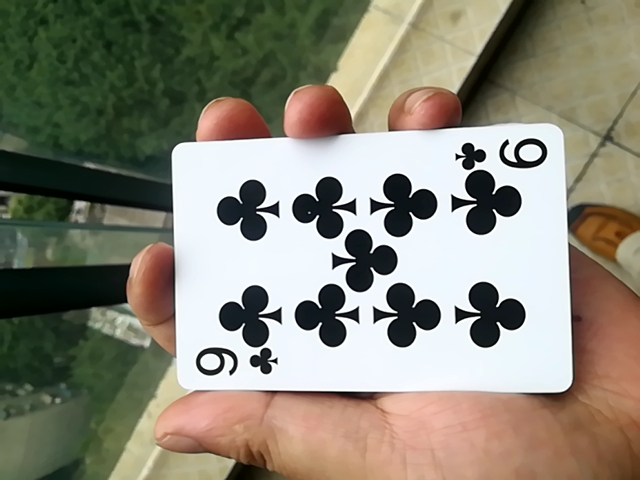mh 9: (156, 129, 568, 403)
